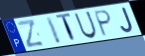I: (45, 16, 63, 45)
J: (119, 6, 135, 34)
P: (94, 9, 113, 38)
T: (55, 12, 78, 44)
U: (74, 10, 99, 40)
Z: (16, 18, 46, 49)
